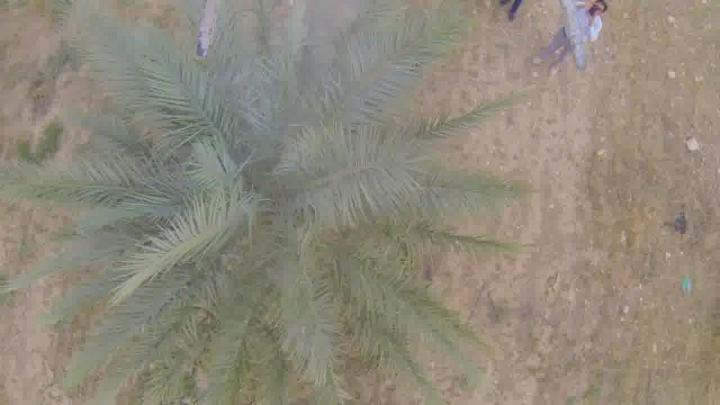Date-Palm-Crown: (128, 60, 410, 367)
